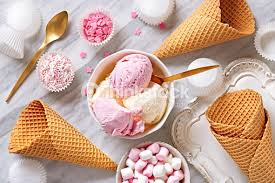ice-cream: (94, 99, 145, 138), (109, 55, 151, 96), (124, 84, 168, 123)
